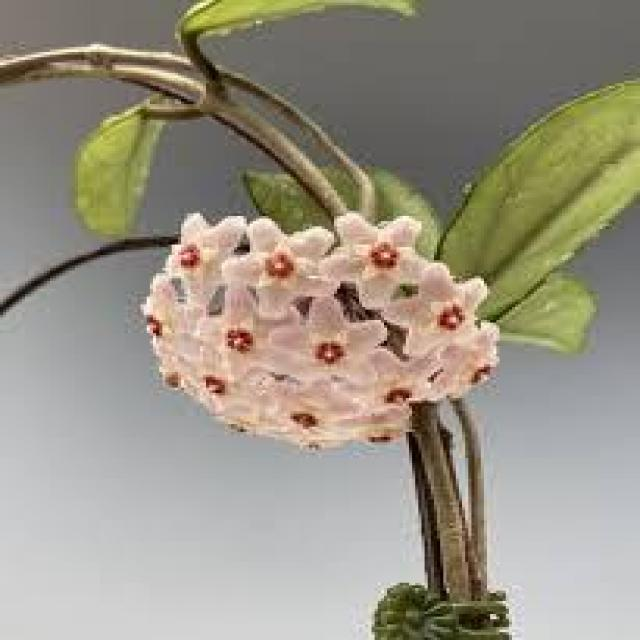organic waste: (142, 193, 510, 463)
